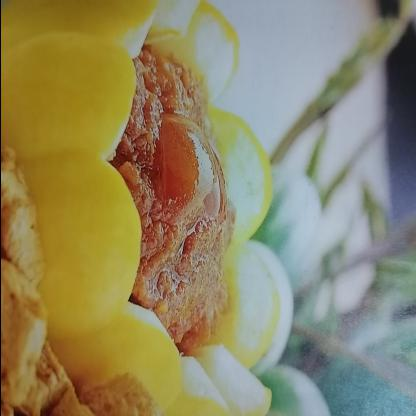Namprig: (90, 34, 246, 368)
